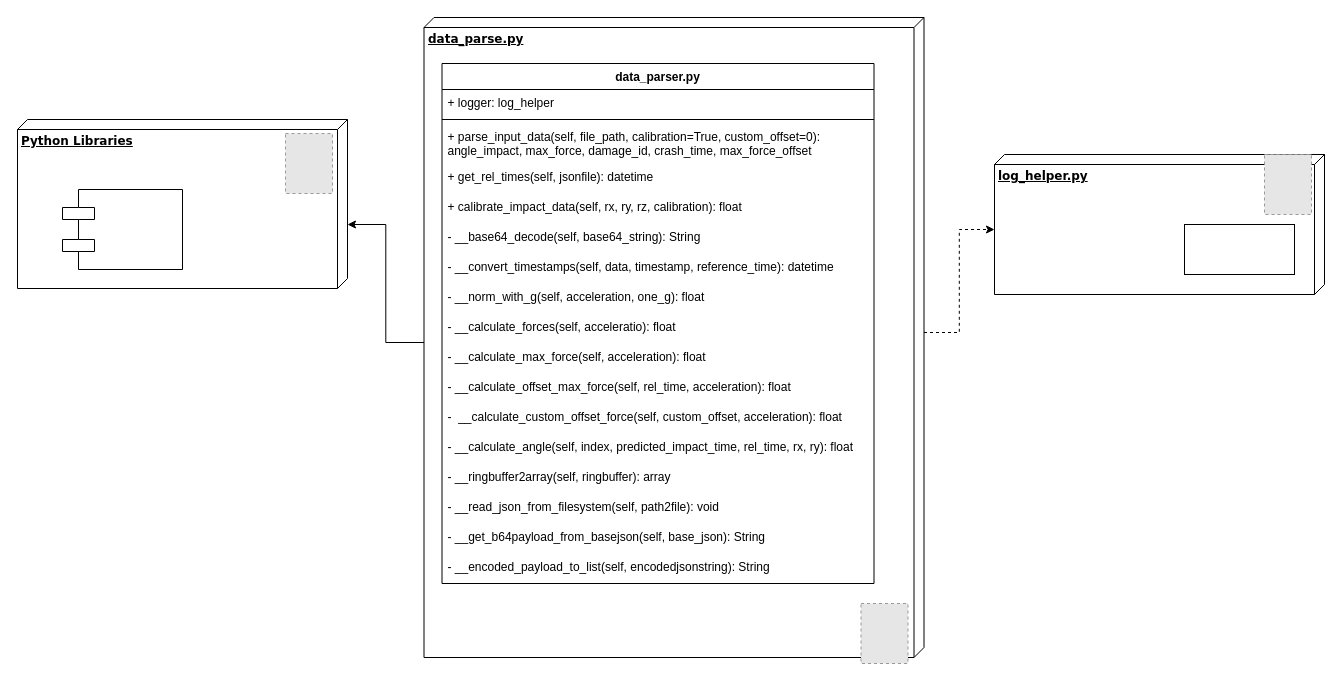
The diagram is 1342 pixels wide and 681 high, and some of its shapes have lost their labels. Grey dashed boxes stand in for pictures. The shapes that lost their labels are listed below. From the top down, each one's centre as x and y in pixels, then its label:
[122,229]: math numpy pandas datetime
[1239,249]: Log Helper
